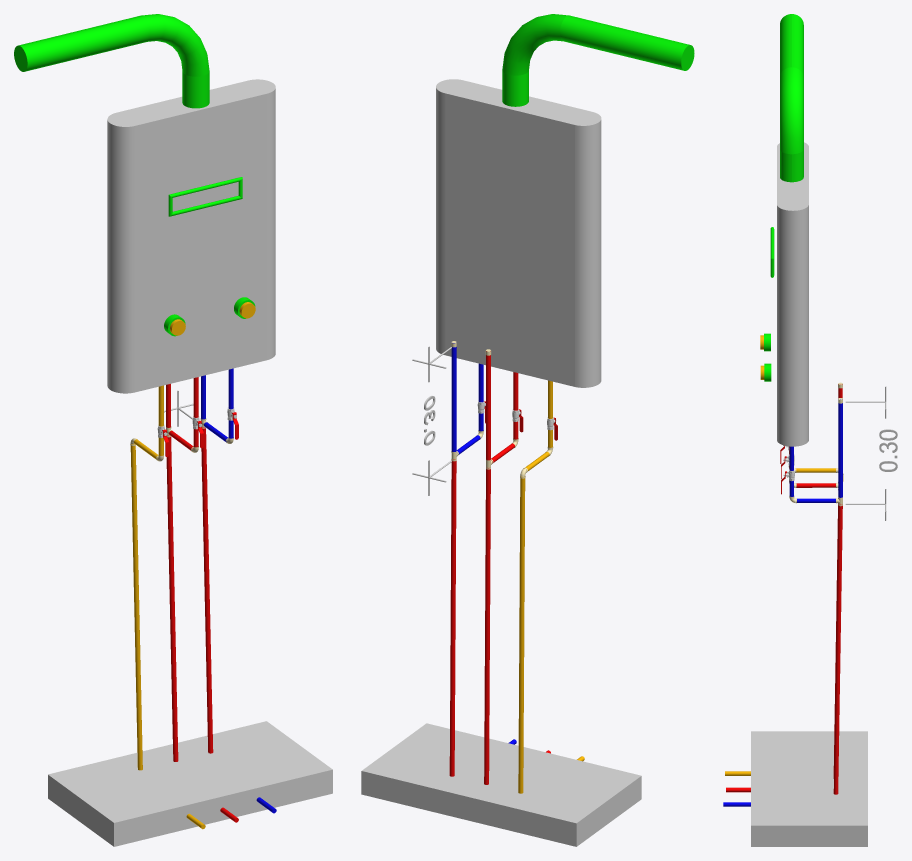
Rendered from calentador.glb.
The picture shows the model from 3 angles, left to right: view 1: azimuth 30°, elevation 25°; view 2: azimuth 150°, elevation 25°; view 3: azimuth 270°, elevation 25°; orthographic projection. The views are drawn at different scales.
Parts seen in each view (by area): view 1: Geom3D (×7); view 2: Geom3D (×7); view 3: Geom3D (×6).
Boxes of the visible parts, x1,y1,x2,y2 form: Geom3D (×7): (14,14,332,846); Geom3D (×7): (361,14,694,846); Geom3D (×6): (751,14,897,846).
Size of the model in its own units: 0.0825 by 0.2183 by 0.0487.
